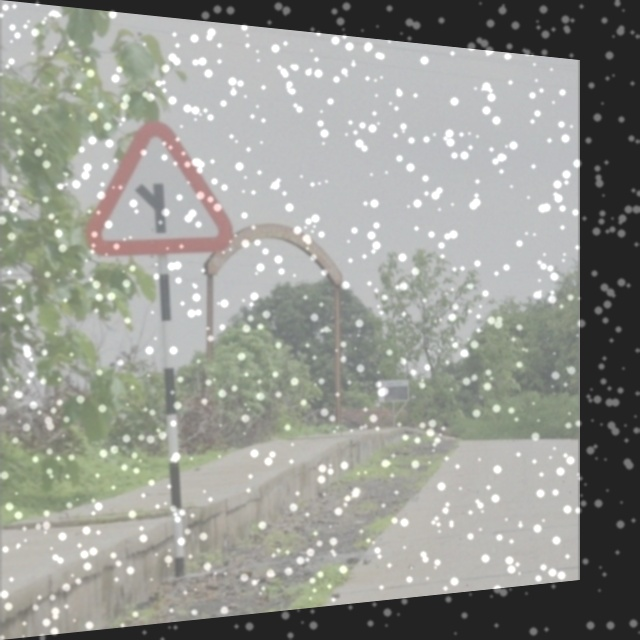Y_Intersection: (98, 120, 231, 251)
